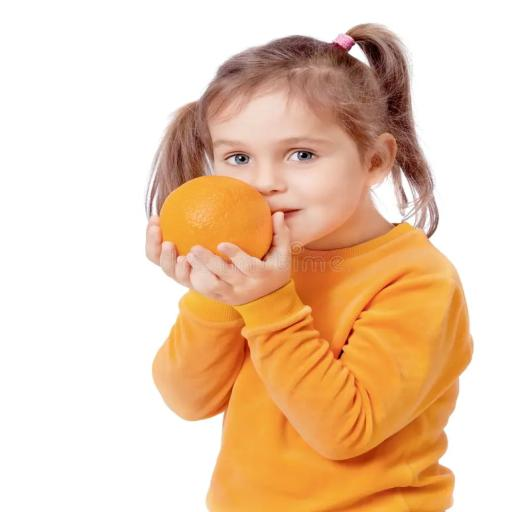orange: (160, 175, 272, 262)
